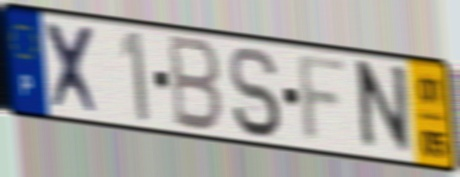1: (119, 26, 152, 126)
B: (167, 31, 225, 137)
F: (295, 51, 352, 149)
N: (357, 57, 414, 159)
S: (227, 44, 284, 142)
X: (42, 18, 105, 120)
